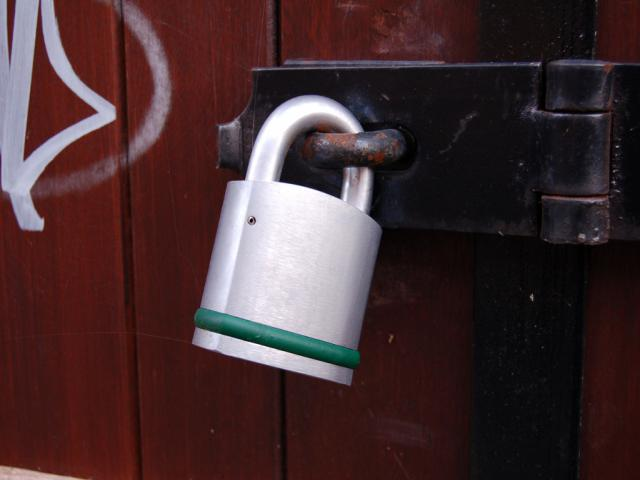Door-handle: (216, 58, 640, 246)
